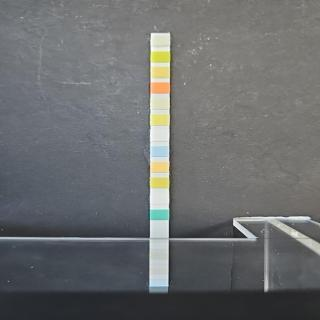mark: (150, 66, 170, 80), (150, 129, 170, 143), (150, 51, 170, 64), (150, 161, 169, 174), (150, 192, 169, 205), (150, 36, 170, 48), (150, 82, 170, 94), (150, 98, 170, 110), (150, 114, 170, 126), (150, 177, 170, 189), (150, 146, 169, 158), (150, 208, 169, 220)
